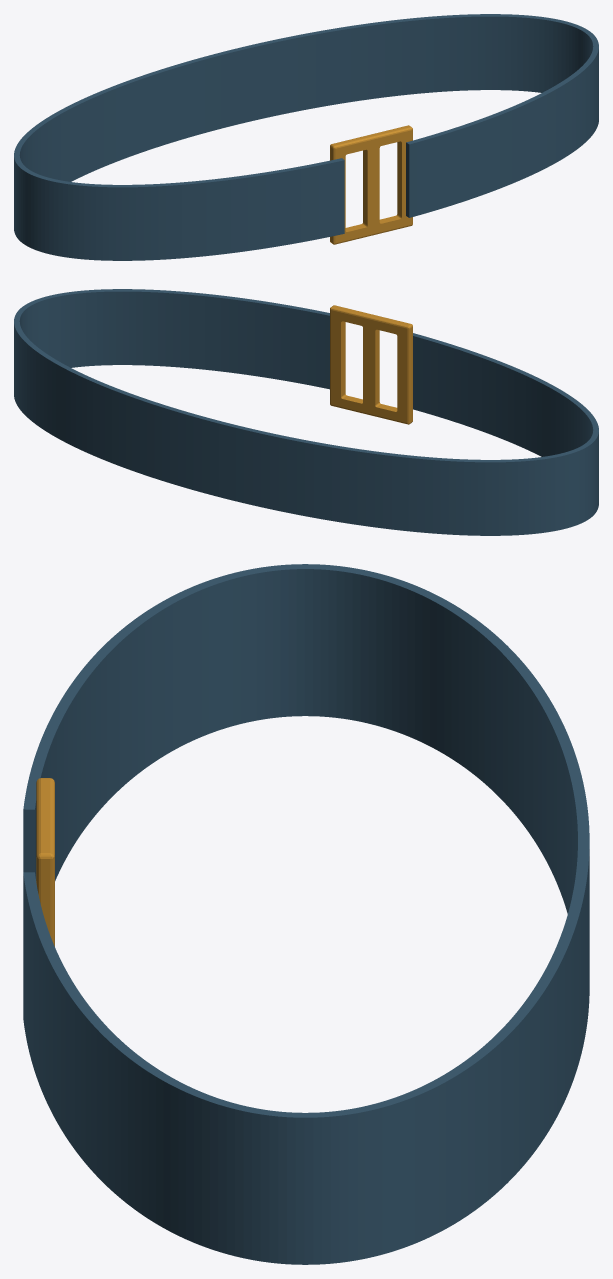
3 renders of one model, top to bottom at view 1: azimuth 30°, elevation 25°; view 2: azimuth 150°, elevation 25°; view 3: azimuth 270°, elevation 25°, orthographic. The views are drawn at different scales.
Visible parts, largest first — view 1: geometry_0; view 2: geometry_0; view 3: geometry_0.
Part boxes in pixels (box(x1,y1,x2,y2)): geometry_0: box(14, 14, 598, 260); geometry_0: box(14, 289, 598, 535); geometry_0: box(23, 564, 589, 1264).
Size of the model in its own units: 0.2825 by 0.047 by 0.1221.
Materials: 1 (1 with a texture image).
